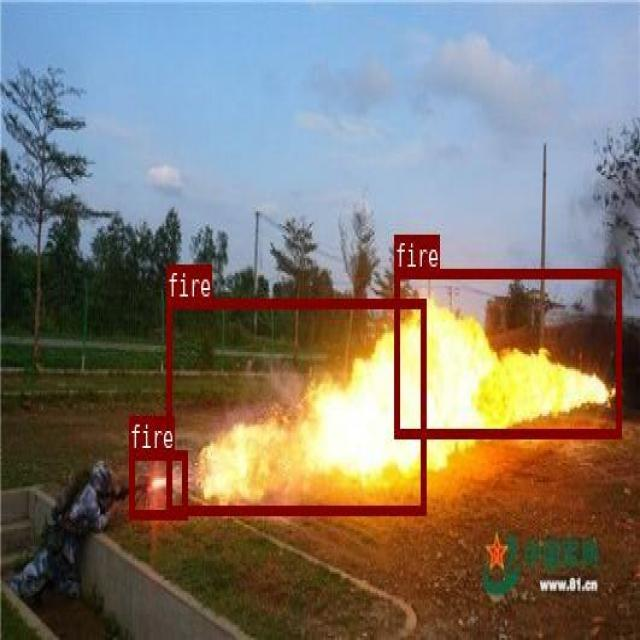fire: (166, 297, 425, 514), (394, 269, 621, 436), (129, 448, 186, 518)
